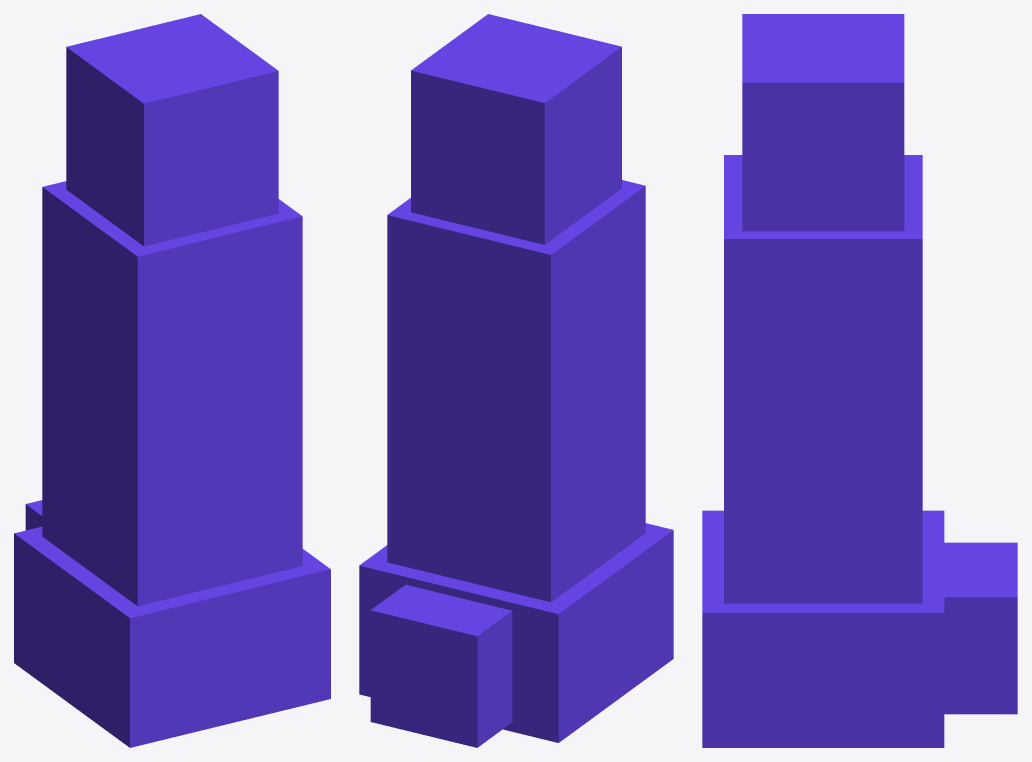
The model's file is DistributorHitbox.fbx.
The picture shows the model from 3 angles, left to right: view 1: azimuth 30°, elevation 25°; view 2: azimuth 150°, elevation 25°; view 3: azimuth 270°, elevation 25°; orthographic projection. The views are drawn at different scales.
Parts seen in each view (by area): view 1: Cube.009; view 2: Cube.009; view 3: Cube.009.
Boxes of the visible parts, x1,y1,x2,y2 form: Cube.009: [14, 14, 330, 747]; Cube.009: [359, 14, 673, 747]; Cube.009: [702, 14, 1017, 747].
Bounding box in the file's own units: 60.54 × 179 × 78.92.
